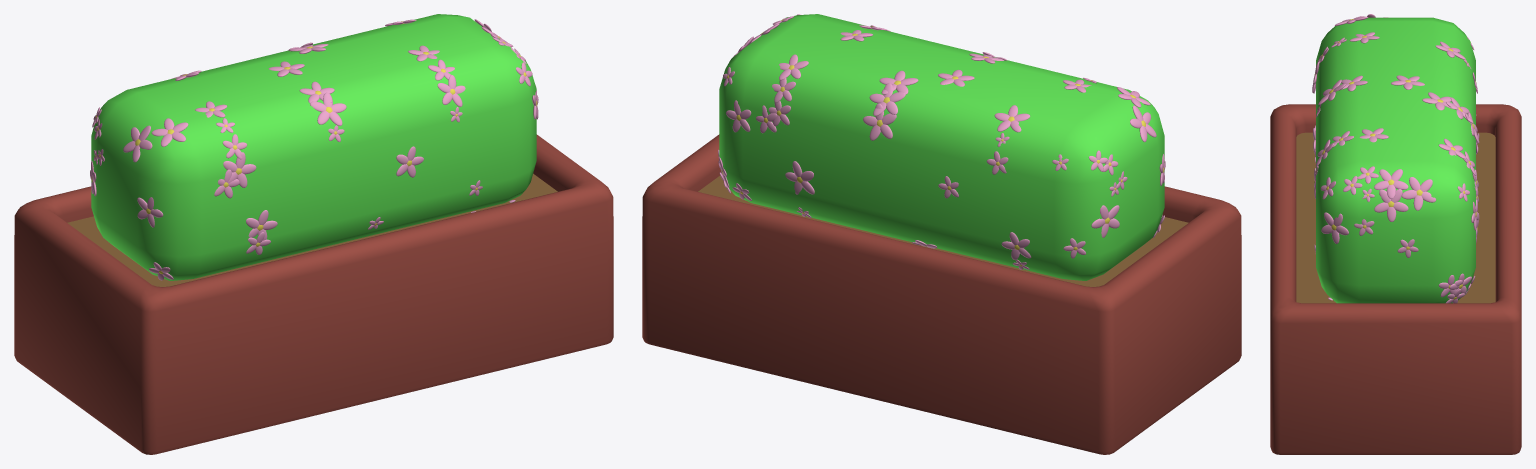
File: Flower.fbx
The picture shows the model from 3 angles, left to right: view 1: azimuth 30°, elevation 25°; view 2: azimuth 150°, elevation 25°; view 3: azimuth 270°, elevation 25°; orthographic projection. The views are drawn at different scales.
Visible parts, largest first — view 1: Plant_Pot, Plant_Plant, Plant_Plant|Flower|Dupli|85; view 2: Plant_Pot, Plant_Plant, Plant_Plant|Flower|Dupli|64, Plant_Plant|Flower|Dupli|58; view 3: Plant_Pot, Plant_Plant, Plant_Plant|Flower|Dupli|68, Plant_Plant|Flower|Dupli|70, Plant_Plant|Flower|Dupli|67, Plant_Plant|Flower|Dupli|71, Plant_Plant|Flower|Dupli|55, Plant_Plant|Flower|Dupli|10.
Boxes of the visible parts, left/top/right/bottom form: Plant_Pot: left=14, top=134, right=613, bottom=454; Plant_Plant: left=91, top=14, right=536, bottom=280; Plant_Plant|Flower|Dupli|85: left=310, top=92, right=346, bottom=125; Plant_Pot: left=642, top=134, right=1241, bottom=454; Plant_Plant: left=719, top=14, right=1164, bottom=280; Plant_Plant|Flower|Dupli|64: left=863, top=103, right=896, bottom=140; Plant_Plant|Flower|Dupli|58: left=869, top=83, right=905, bottom=115; Plant_Pot: left=1270, top=104, right=1521, bottom=454; Plant_Plant: left=1316, top=17, right=1475, bottom=303; Plant_Plant|Flower|Dupli|68: left=1401, top=177, right=1436, bottom=210; Plant_Plant|Flower|Dupli|70: left=1374, top=189, right=1408, bottom=221; Plant_Plant|Flower|Dupli|67: left=1374, top=169, right=1408, bottom=198; Plant_Plant|Flower|Dupli|71: left=1321, top=212, right=1348, bottom=243; Plant_Plant|Flower|Dupli|55: left=1422, top=92, right=1457, bottom=110; Plant_Plant|Flower|Dupli|10: left=1391, top=75, right=1424, bottom=89.
Bounding box in the file's own units: 6.26 × 3.62 × 3.14.
